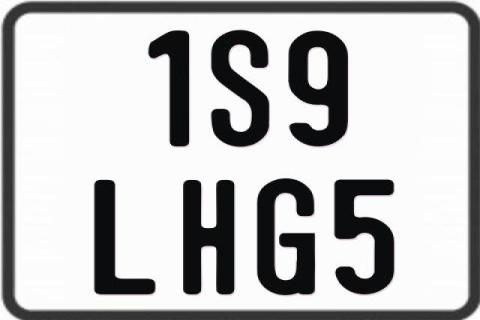0: (288, 30, 349, 146), (331, 178, 393, 292), (146, 30, 187, 150)
G: (255, 178, 315, 294)
H: (183, 178, 235, 292)
L: (91, 180, 152, 299)
S: (209, 30, 268, 150)
